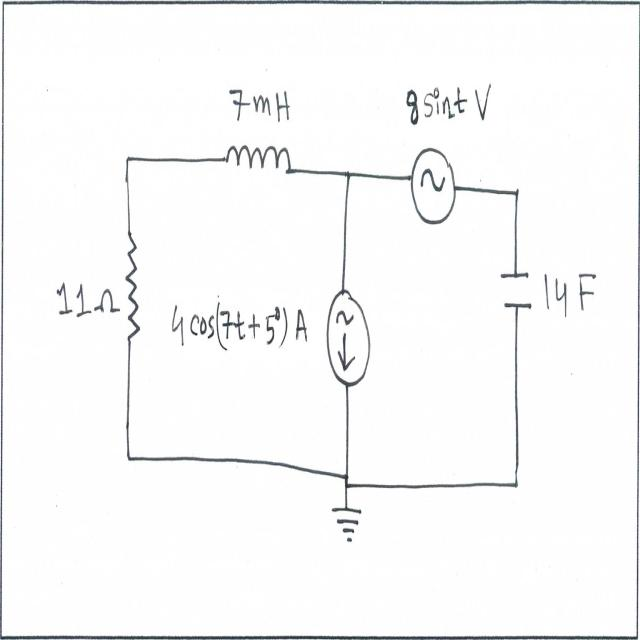ac_current: (406, 137, 462, 230)
capacitor: (499, 259, 535, 320)
current_source: (323, 280, 377, 393)
ground: (331, 502, 365, 548)
inductor: (220, 131, 295, 190)
resistor: (121, 228, 144, 358)
